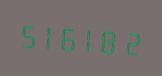eight: (102, 21, 122, 58)
five: (17, 15, 37, 52)
one: (38, 17, 58, 54), (81, 20, 101, 57)
six: (60, 18, 80, 55)
two: (123, 22, 143, 60)
